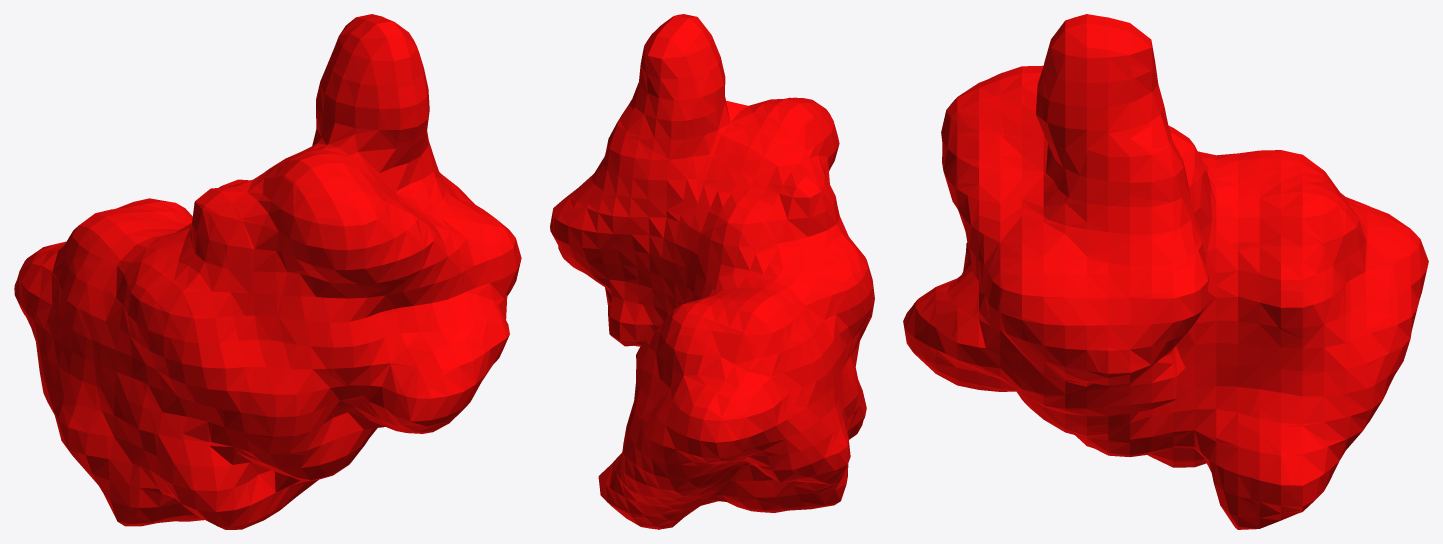
Rendered from fliP_coarse.dae.
3 views of the same model, side by side, from view 1: azimuth 30°, elevation 25°; view 2: azimuth 150°, elevation 25°; view 3: azimuth 270°, elevation 25° (orthographic). The views are drawn at different scales.
Visible parts, largest first — view 1: fliP; view 2: fliP; view 3: fliP.
Part boxes in pixels (left/top/right/bottom): fliP: left=14, top=14, right=521, bottom=529; fliP: left=550, top=14, right=874, bottom=529; fliP: left=903, top=14, right=1428, bottom=529.
Bounding box in the file's own units: 51.67 × 67.87 × 59.84.
